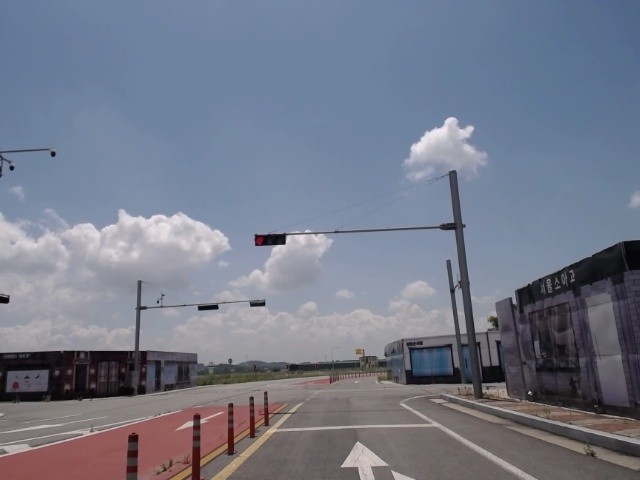red_3: (251, 232, 289, 247)
